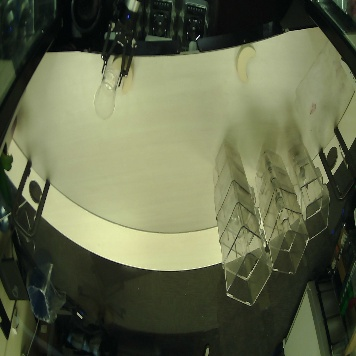empty_cup: (95, 69, 119, 118)
puck: (112, 55, 135, 95), (236, 45, 259, 85)
